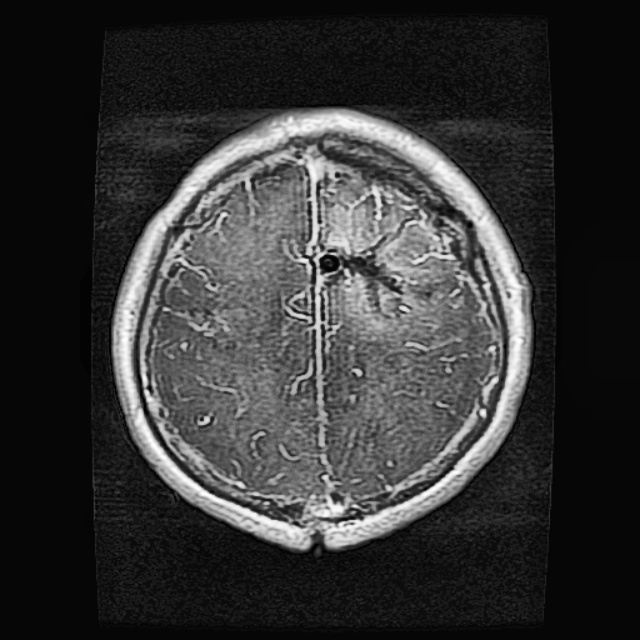Pituitary: (342, 234, 402, 312)
